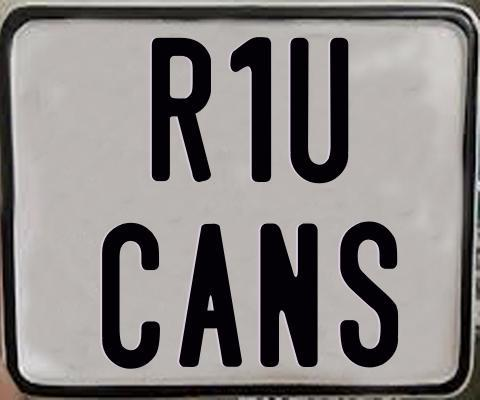1: (228, 34, 269, 179)
A: (177, 223, 242, 367)
C: (102, 221, 164, 370)
N: (259, 221, 322, 365)
R: (151, 37, 211, 182)
S: (338, 220, 397, 372)
U: (287, 35, 346, 186)
